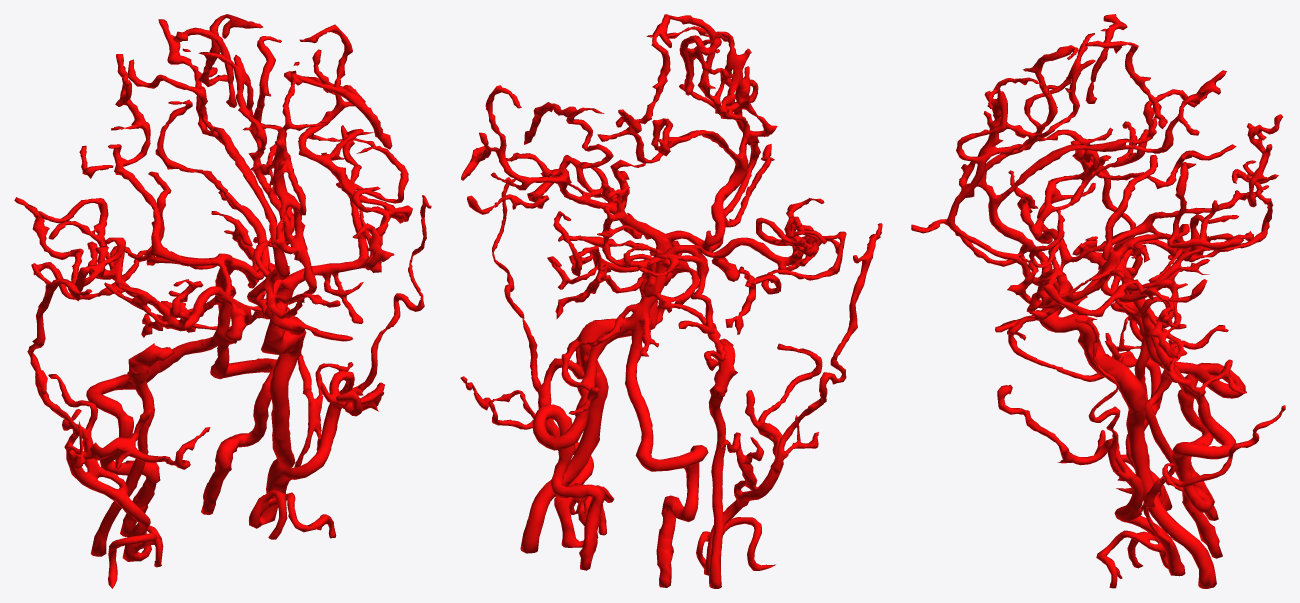
3 renders of one model, left to right at view 1: azimuth 30°, elevation 25°; view 2: azimuth 150°, elevation 25°; view 3: azimuth 270°, elevation 25°, orthographic. The views are drawn at different scales.
Visible parts, largest first — view 1: Polygonal_Model_1_Triangles_0; view 2: Polygonal_Model_1_Triangles_0; view 3: Polygonal_Model_1_Triangles_0.
Boxes of the visible parts, box(x1,y1,x2,y2) form: Polygonal_Model_1_Triangles_0: box(14, 14, 431, 588); Polygonal_Model_1_Triangles_0: box(460, 14, 882, 588); Polygonal_Model_1_Triangles_0: box(911, 14, 1285, 588).
Bounding box in the file's own units: 5.6 × 7.52 × 5.05.
